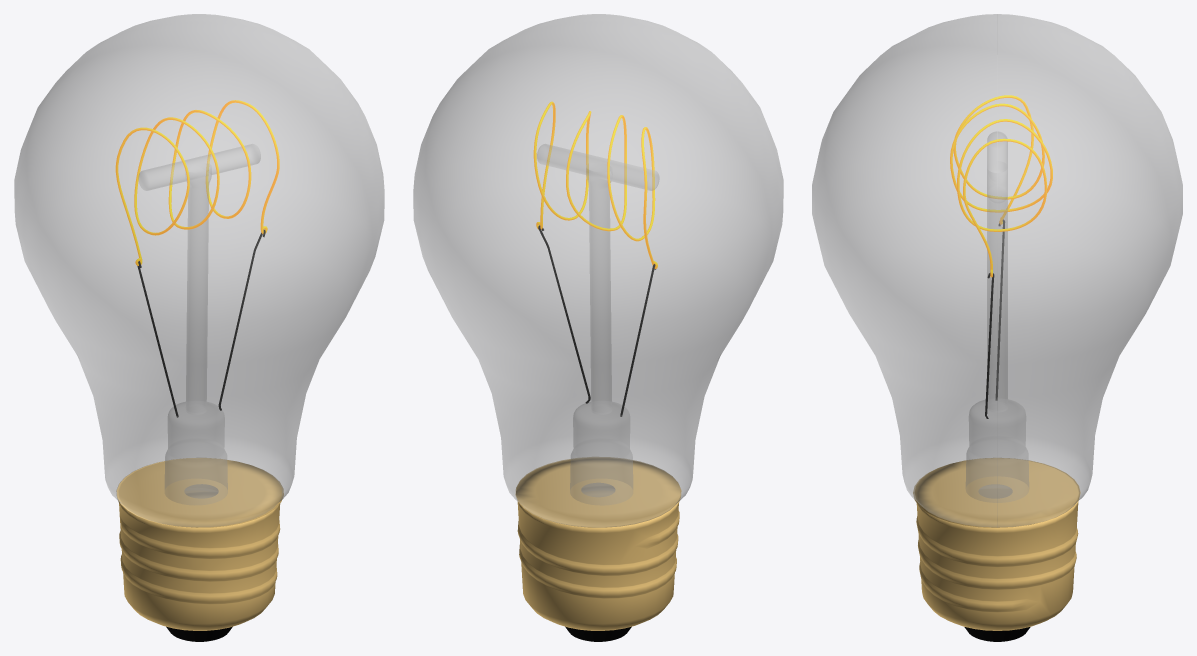
Rendered from Bulb.glb.
3 renders of one model, left to right at view 1: azimuth 30°, elevation 25°; view 2: azimuth 150°, elevation 25°; view 3: azimuth 270°, elevation 25°, orthographic.
Parts seen in each view (by area): view 1: Object_3, Object_6, Object_4, Object_5, Object_7, Object_2; view 2: Object_3, Object_6, Object_4, Object_5, Object_7, Object_2; view 3: Object_3, Object_6, Object_4, Object_5, Object_7, Object_2.
Boxes of the visible parts, bbox=[...] form: Object_3: bbox=[14, 14, 384, 526]; Object_6: bbox=[116, 458, 283, 630]; Object_4: bbox=[138, 144, 260, 504]; Object_5: bbox=[115, 100, 279, 265]; Object_7: bbox=[137, 230, 265, 417]; Object_2: bbox=[166, 626, 232, 641]; Object_3: bbox=[413, 14, 783, 527]; Object_6: bbox=[515, 457, 681, 630]; Object_4: bbox=[537, 144, 659, 504]; Object_5: bbox=[533, 101, 657, 268]; Object_7: bbox=[538, 225, 655, 416]; Object_2: bbox=[565, 626, 631, 641]; Object_3: bbox=[812, 14, 1182, 527]; Object_6: bbox=[913, 458, 1080, 630]; Object_4: bbox=[966, 131, 1028, 502]; Object_5: bbox=[950, 95, 1052, 277]; Object_7: bbox=[985, 219, 1004, 418]; Object_2: bbox=[964, 627, 1030, 641].
Bounding box in the file's own units: 4.96 × 8.93 × 4.96.
